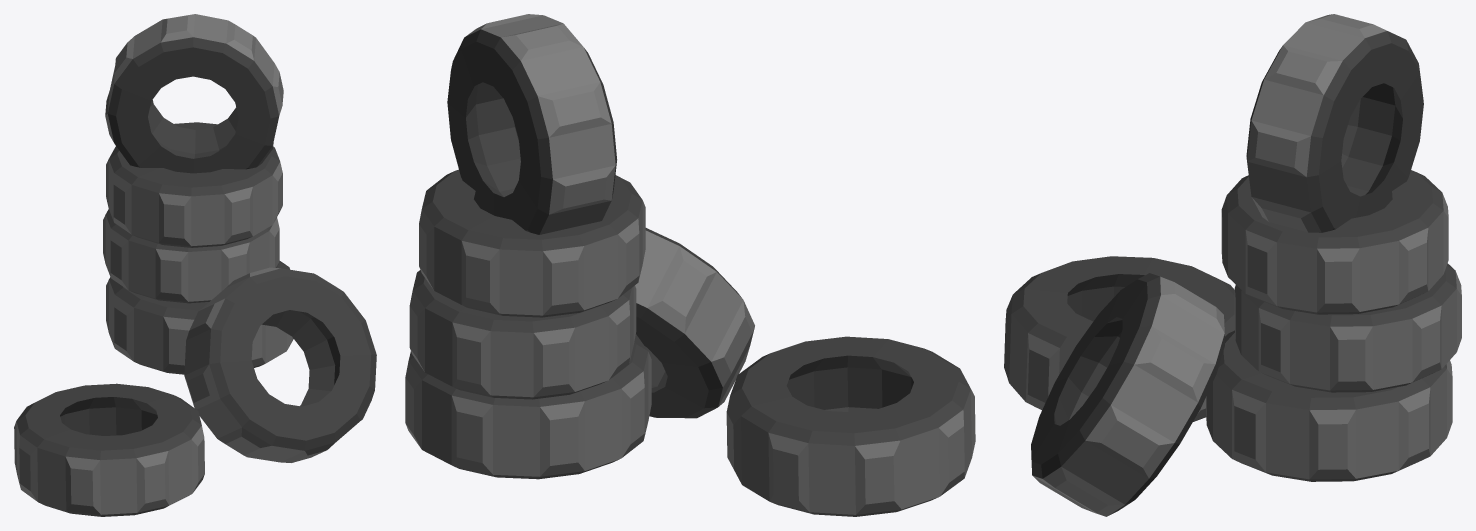
Rendered from Pineu.fbx.
3 views of the same model, side by side, from view 1: azimuth 30°, elevation 25°; view 2: azimuth 150°, elevation 25°; view 3: azimuth 270°, elevation 25° (orthographic). The views are drawn at different scales.
Parts seen in each view (by area): view 1: Pineu; view 2: Pineu; view 3: Pineu.
Part boxes in pixels (x1=…): Pineu: x1=14, y1=14, x2=376, y2=516; Pineu: x1=405, y1=14, x2=975, y2=516; Pineu: x1=1004, y1=14, x2=1461, y2=516.
Size of the model in its own units: 177 by 185 by 162.
